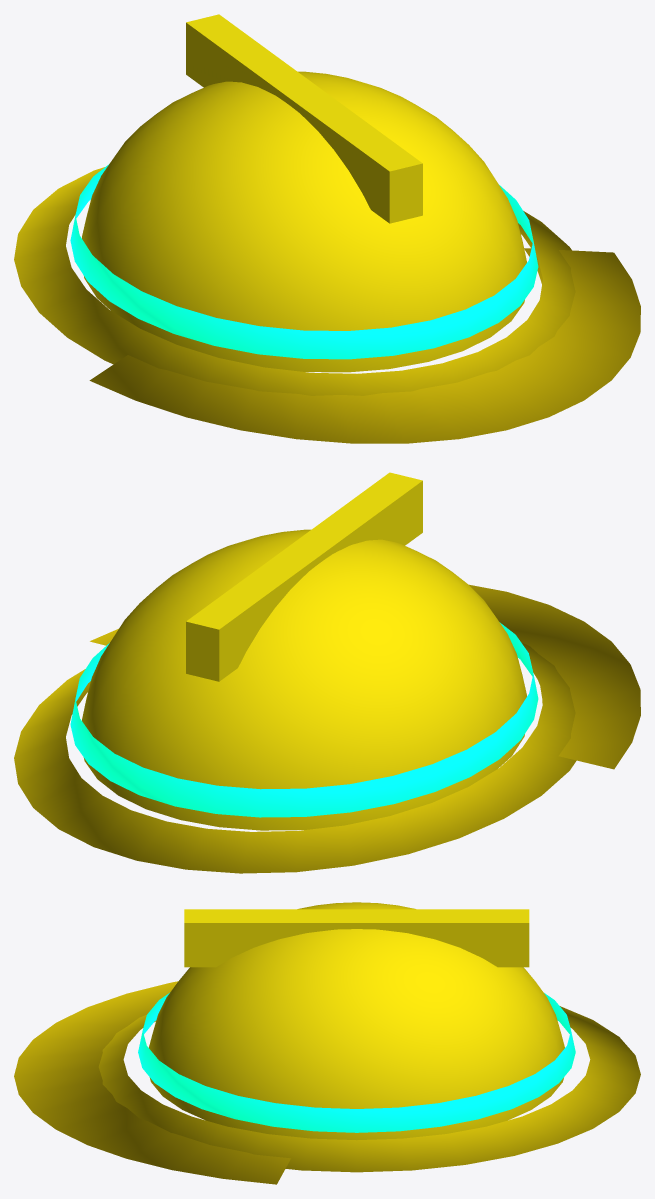
File: capacete.glb
The picture shows the model from 3 angles, top to bottom: view 1: azimuth 30°, elevation 25°; view 2: azimuth 150°, elevation 25°; view 3: azimuth 270°, elevation 25°; orthographic projection. The views are drawn at different scales.
Visible parts, largest first — view 1: Dome_node, Visor_node, Brim_node, NeonStripe_node, Ridge_node; view 2: Dome_node, Brim_node, NeonStripe_node, Ridge_node, Visor_node; view 3: Dome_node, Brim_node, Visor_node, Ridge_node, NeonStripe_node.
Boxes of the visible parts, x1,y1,x2,y2 form: Dome_node: (82,71,526,372); Visor_node: (89,248,640,443); Brim_node: (14,167,575,395); NeonStripe_node: (70,164,538,359); Ridge_node: (186,14,422,223); Dome_node: (82,529,526,830); Brim_node: (14,642,576,873); NeonStripe_node: (70,622,538,817); Ridge_node: (186,472,422,681); Visor_node: (90,584,640,769); Dome_node: (149,902,564,1140); Brim_node: (98,1006,640,1172); Visor_node: (14,981,290,1184); Ridge_node: (184,909,529,967); NeonStripe_node: (138,993,575,1132).
Bounding box in the file's own units: 1.26 × 0.435 × 1.55.
